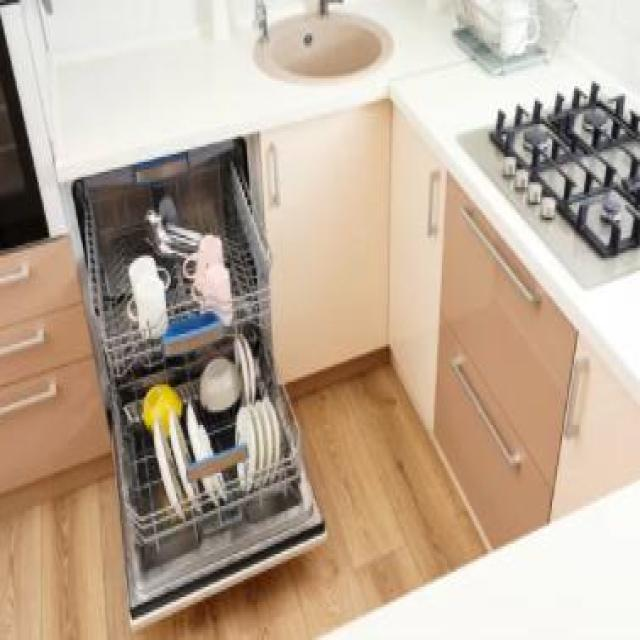dishwasher: (61, 124, 332, 632)
